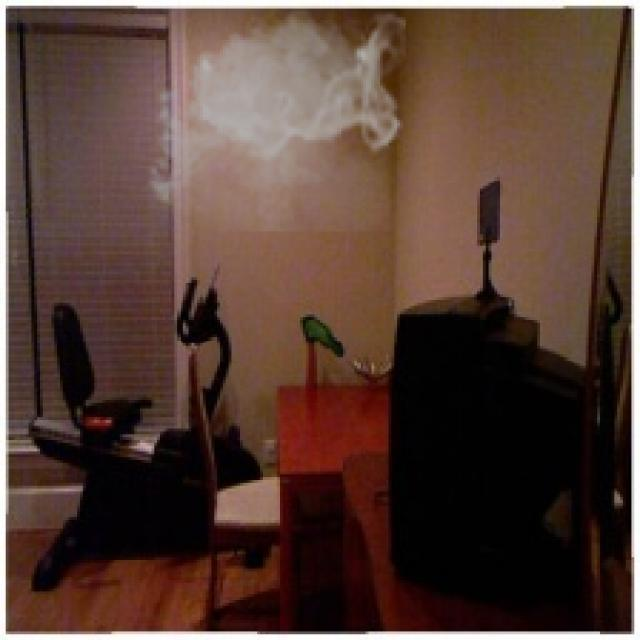Smoke: (140, 0, 406, 232)
